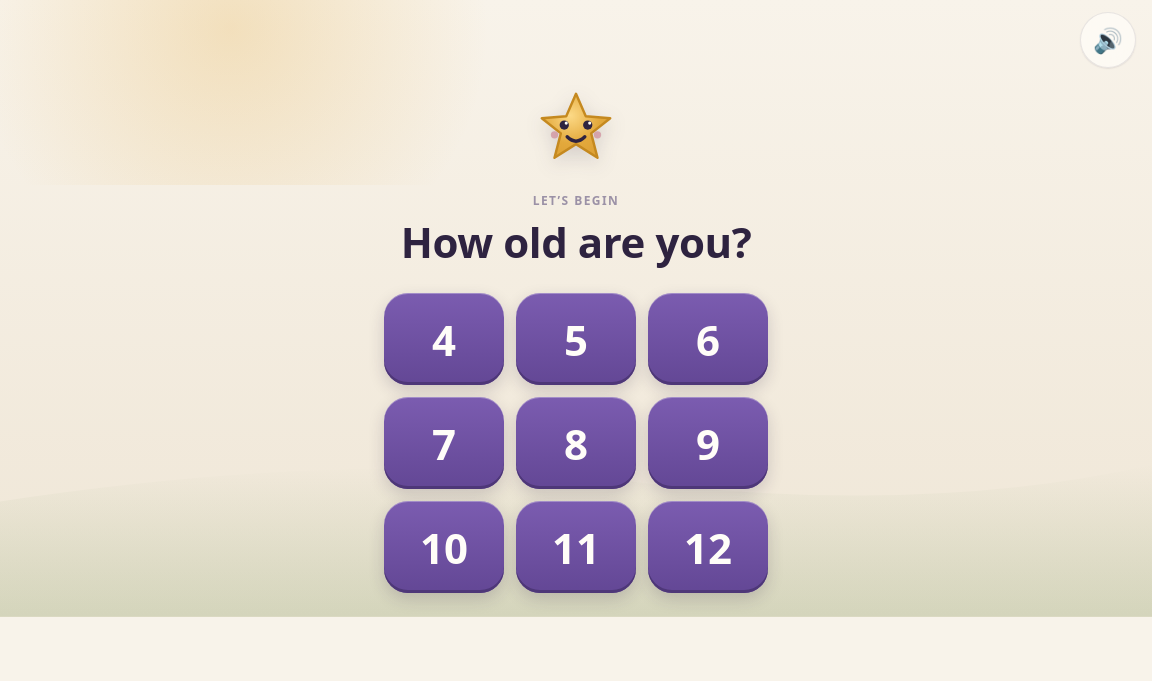
Test: full play loop › skipping placement lands on the meadow with nothing placed
This screenshot has width=1152, height=681.
What coordinates should you click on to do the following:
click the button "5"
I would click on:
 (576, 339)
Its box is x1=516 y1=293 x2=636 y2=385.
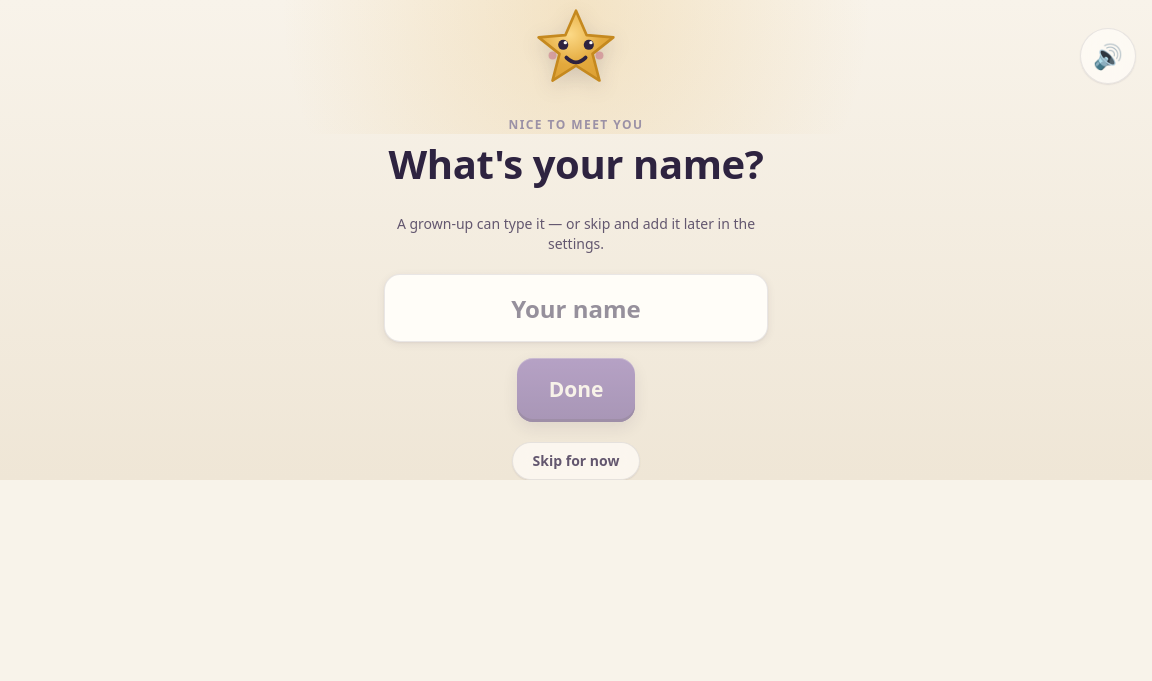
What coordinates should you click on to do the following:
click the button "Skip for now"
I would click on:
 (576, 461)
Its box is x1=512 y1=442 x2=640 y2=480.
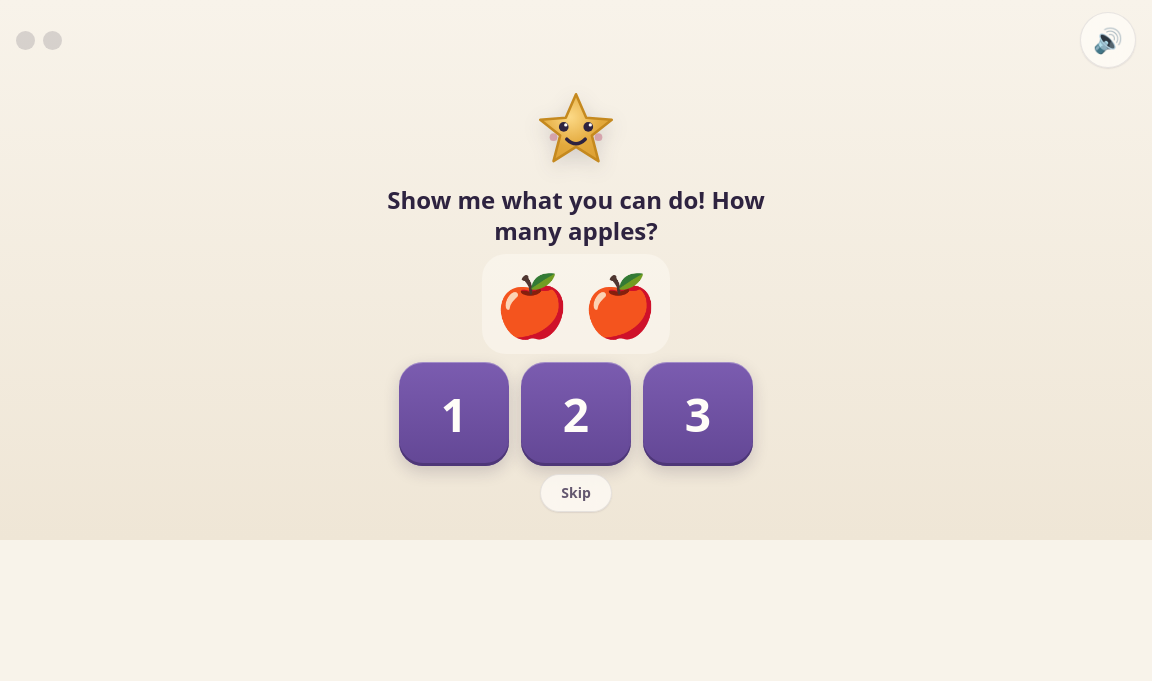
Expected: the text "Show me what you can do!" is shown, x1=387 y1=183 x2=765 y2=247
What coordinates should you click on to do the following:
click the button "Skip"
I would click on:
 (576, 493)
Its box is x1=540 y1=474 x2=612 y2=512.
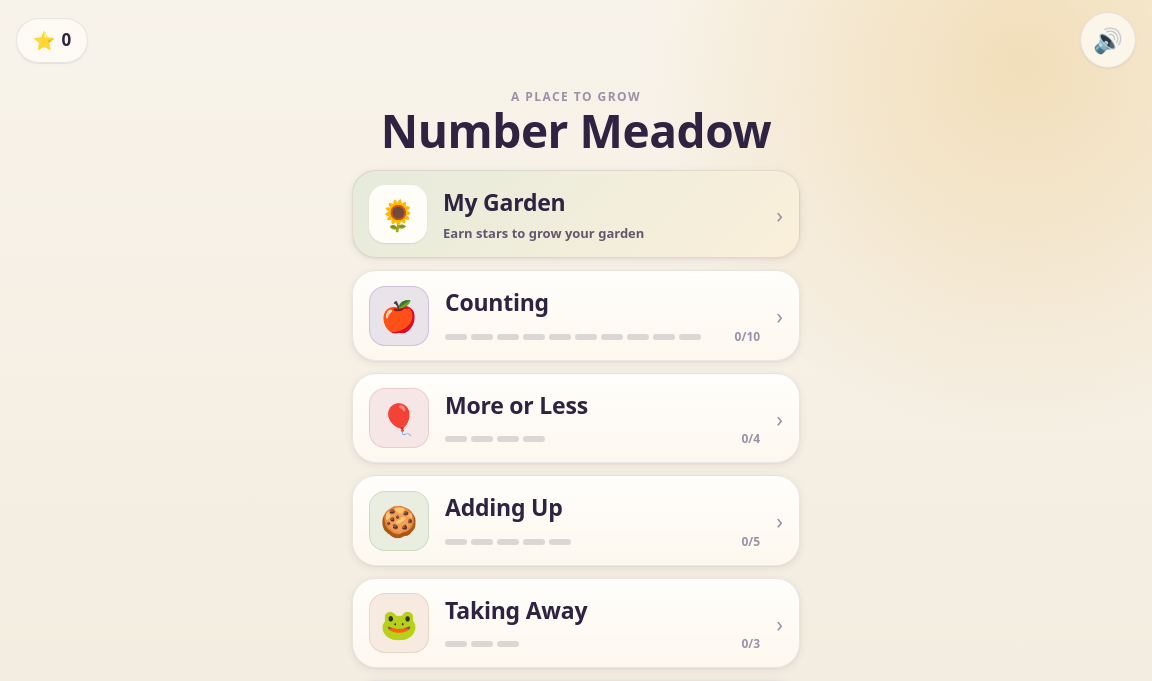
Expected: the button "🍎 Counting 0/10 ›" is shown, x1=352 y1=270 x2=800 y2=361
